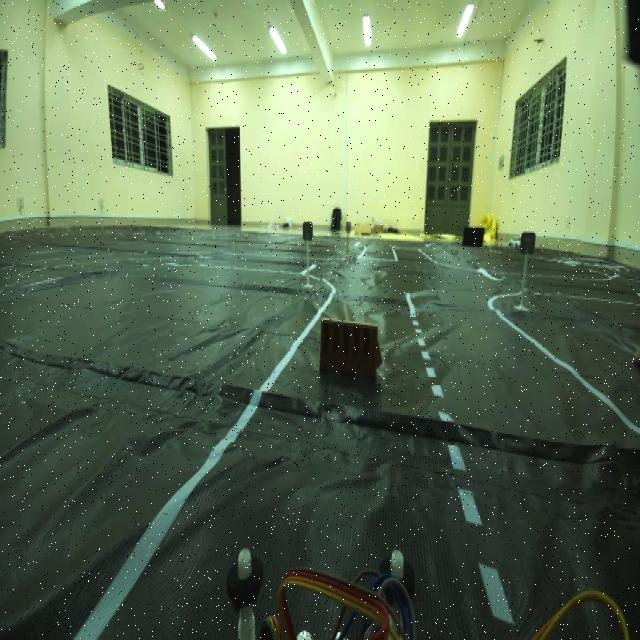roadblock: (308, 304, 401, 406)
